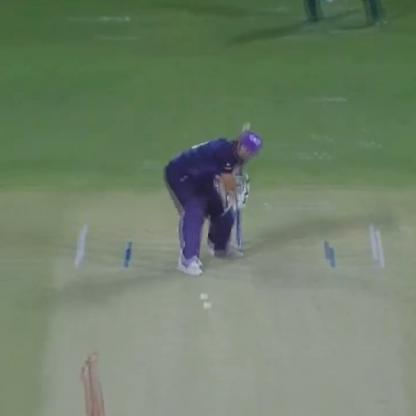ball: (200, 302, 214, 312), (196, 290, 210, 298)
pitch: (38, 224, 394, 416)
